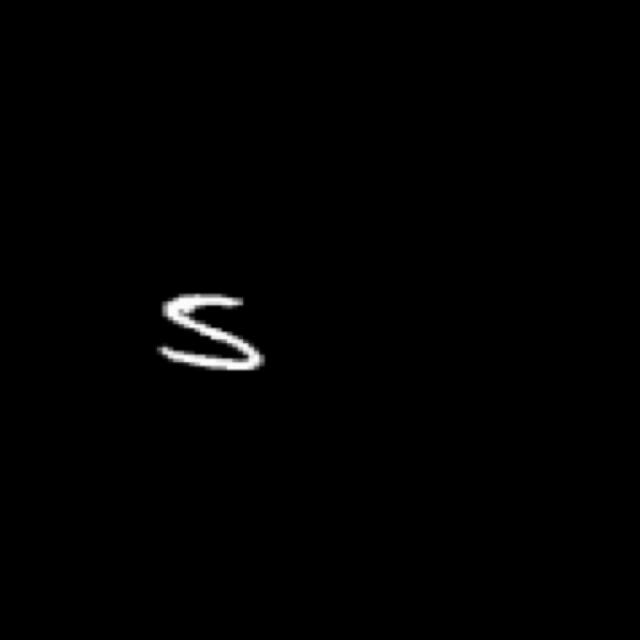five -5-: (148, 286, 275, 382)
